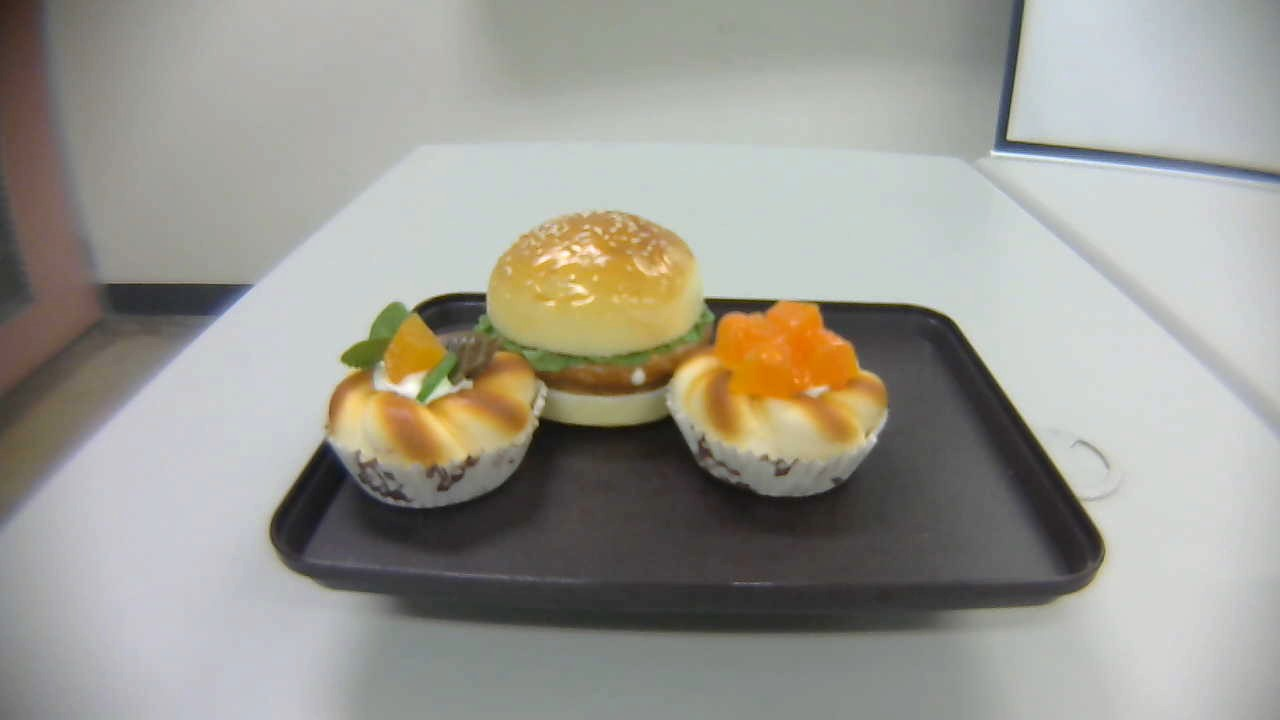fruit tart: (325, 300, 545, 507)
hamburger: (477, 208, 715, 429)
mango tart: (674, 300, 892, 500)
